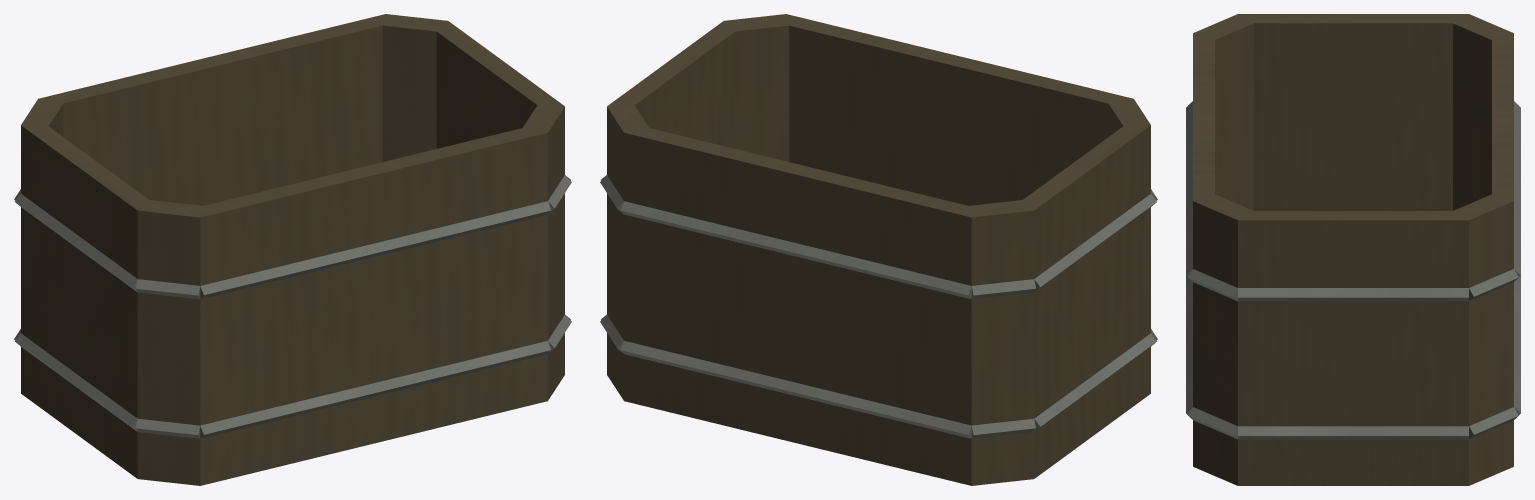
The model's file is WarrensC_WVC037_CuringVat_Mars_SM.fbx.
The picture shows the model from 3 angles, left to right: view 1: azimuth 30°, elevation 25°; view 2: azimuth 150°, elevation 25°; view 3: azimuth 270°, elevation 25°; orthographic projection.
Parts seen in each view (by area): view 1: WarrensC_WVC037_CuringVat_Mars_SM.001; view 2: WarrensC_WVC037_CuringVat_Mars_SM.001; view 3: WarrensC_WVC037_CuringVat_Mars_SM.001.
Part boxes in pixels (<box>): WarrensC_WVC037_CuringVat_Mars_SM.001: <box>14,14,571,485</box>; WarrensC_WVC037_CuringVat_Mars_SM.001: <box>600,14,1157,485</box>; WarrensC_WVC037_CuringVat_Mars_SM.001: <box>1186,14,1520,485</box>.
Bounding box in the file's own units: 240 × 160 × 140.
